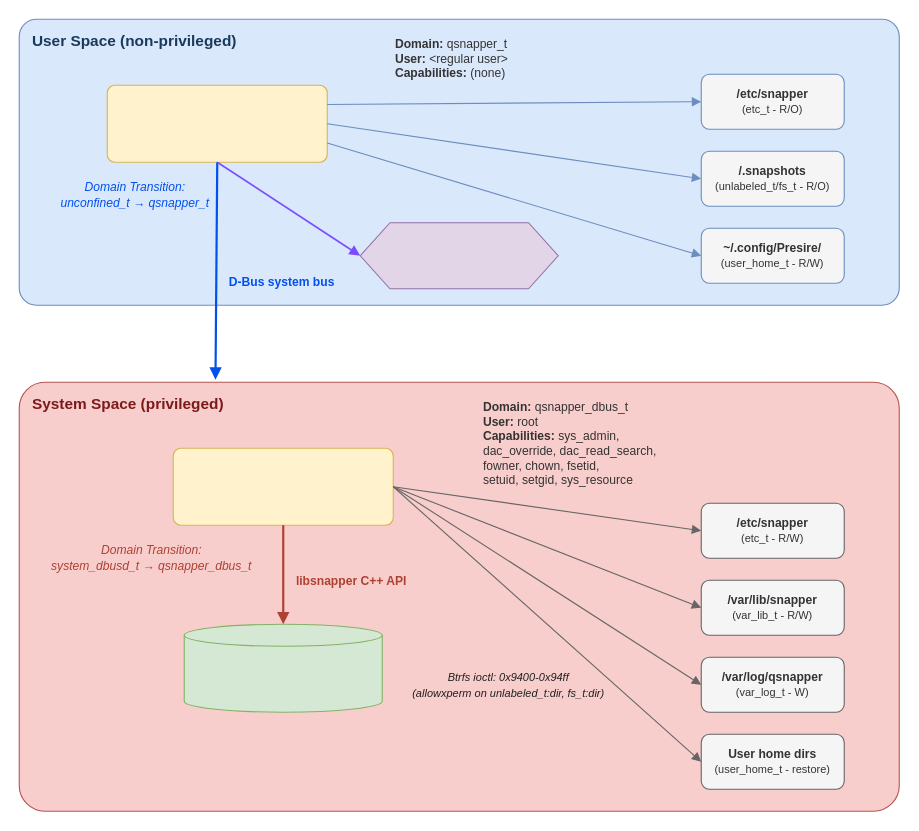
Image size: 919x831. Some labels were removed from this diagram. Each missing label, with the box of its shape:
Btrfs filesystem (/.snapshots): (183, 623, 382, 712)
PolicyKit authorization check: (359, 222, 558, 289)
qsnapper (Qt6 / QML GUI Application): (106, 84, 327, 162)
qsnapper-dbus-service (D-Bus daemon): (172, 447, 393, 525)
